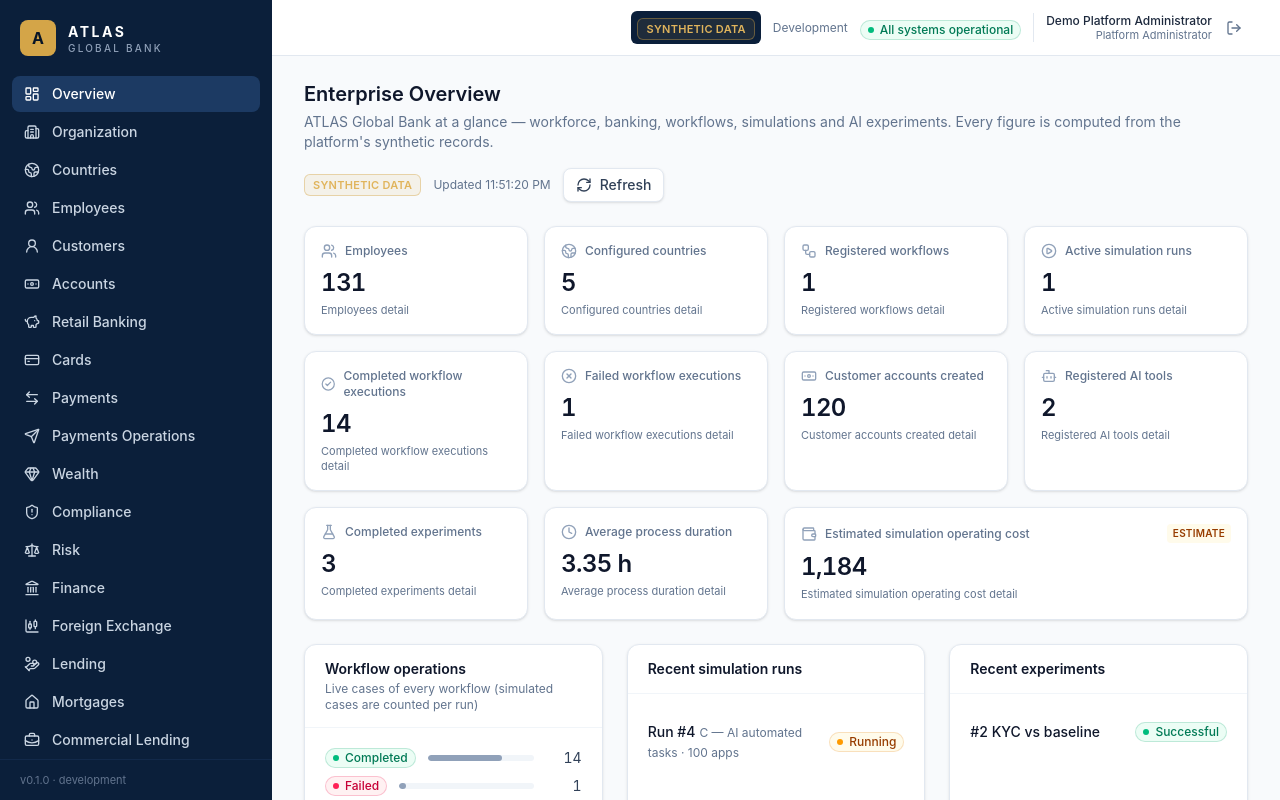
Scenario: Overview availability › shows the failure state on the overview when the API fails mid-session
Expected: the text "All systems operational" is shown, x1=880 y1=22 x2=1013 y2=38
Step 1. Click the button "Refresh" → (614, 185), box x1=563 y1=168 x2=664 y2=202
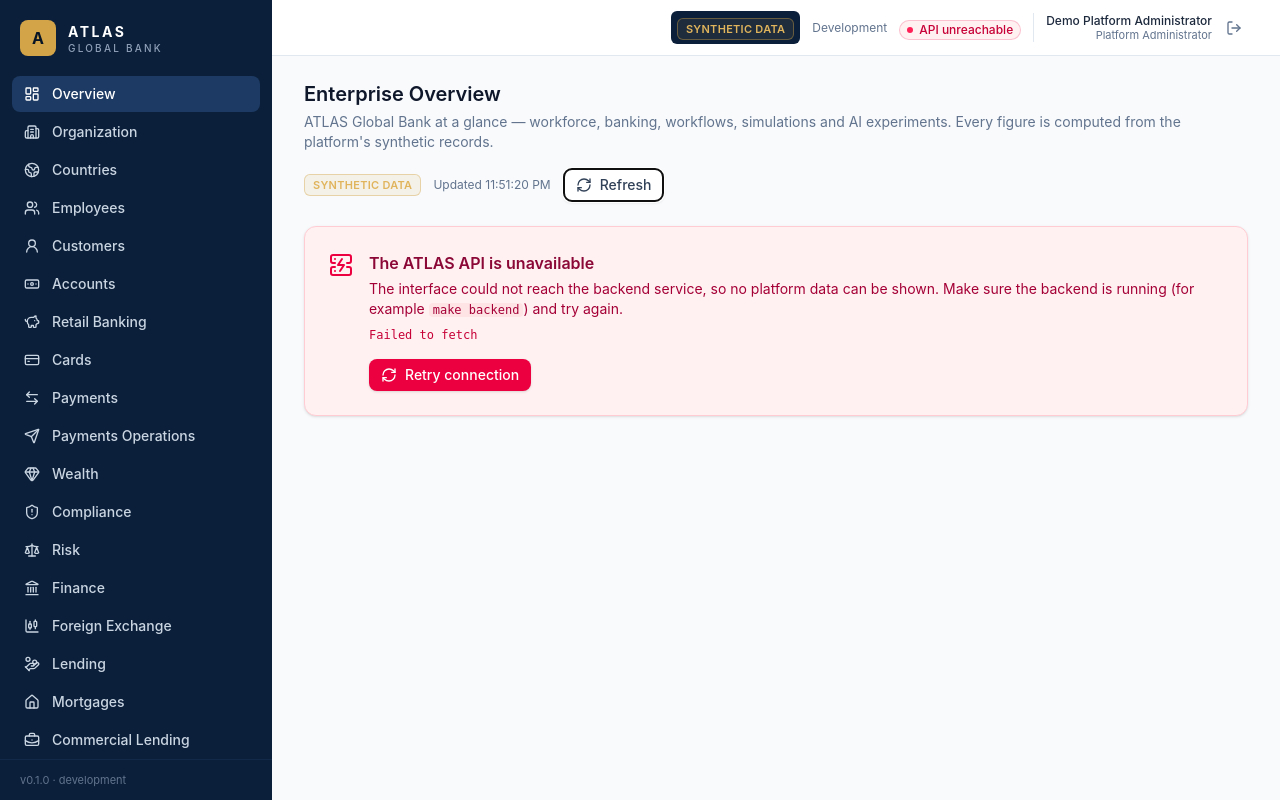
Expected: the heading "The ATLAS API is unavailable" is shown, x1=369 y1=253 x2=594 y2=273
Expected: the text "API unreachable" is shown, x1=919 y1=22 x2=1013 y2=38
